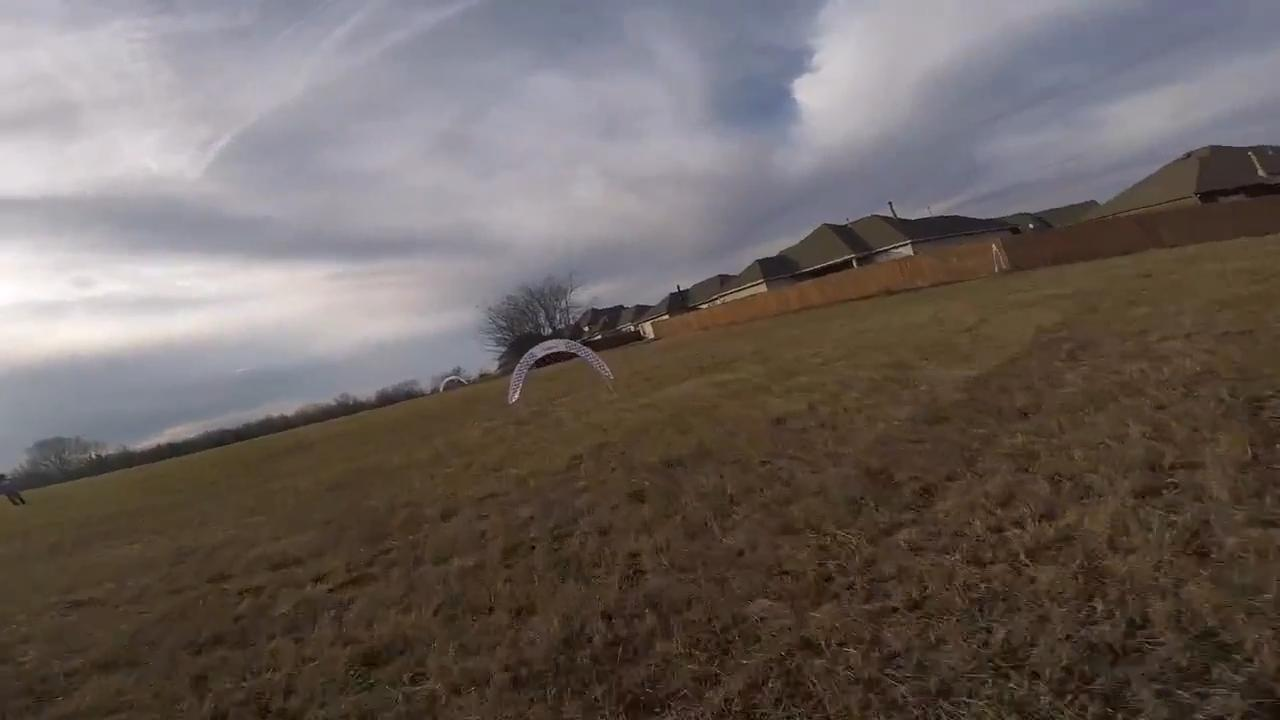gate: (503, 339, 615, 410)
